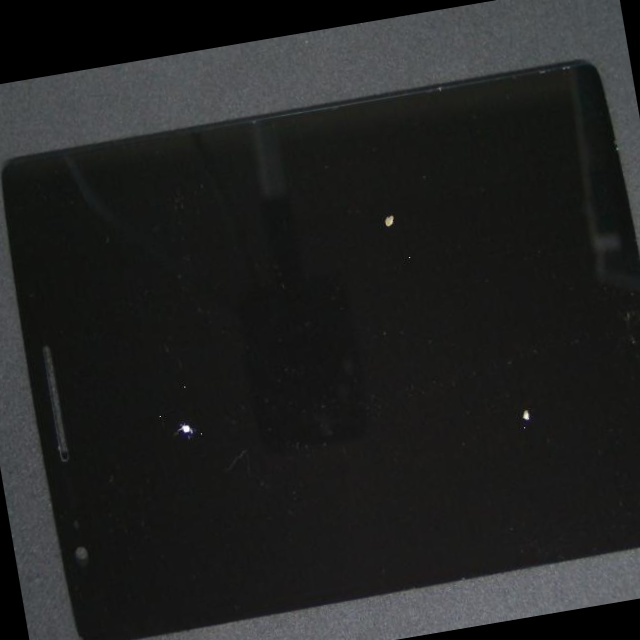stain: (229, 168, 640, 607), (156, 113, 596, 419), (3, 214, 281, 640)
